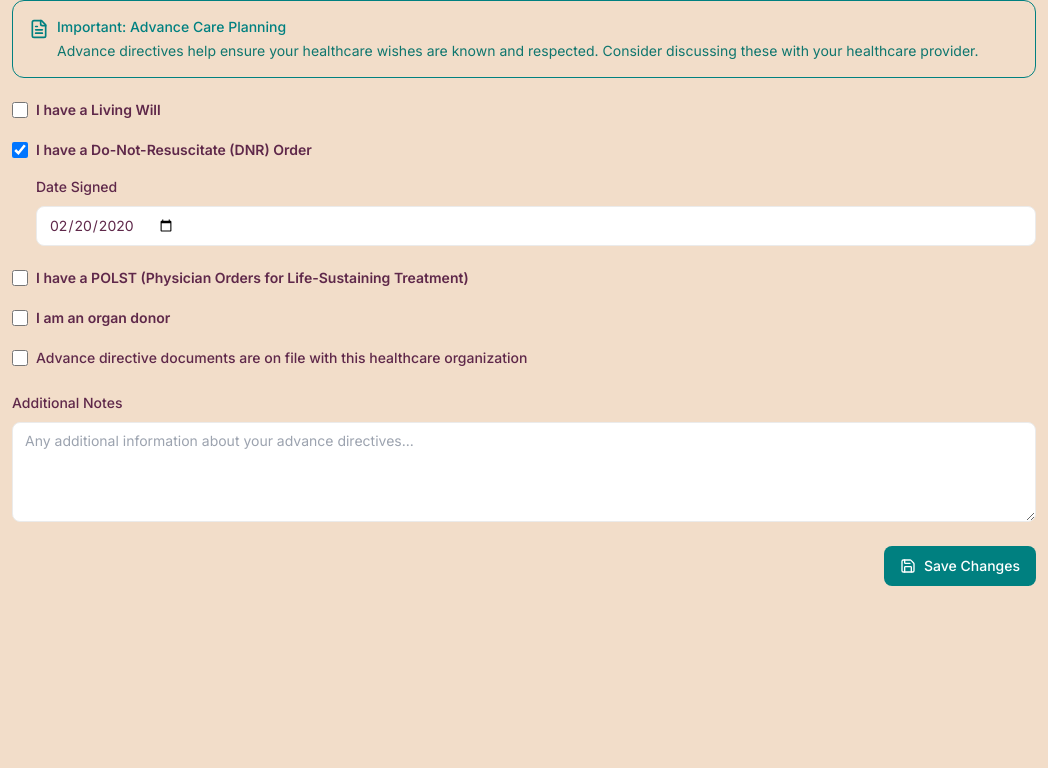
it: AdvanceDirectivesForm › DNR Order › should hide date field when DNR is unchecked
Expected: the date field labelled "Date Signed" is shown, [36,206,1036,246]
What coordinates should you click on to do the following:
click the checkbox labelled "I have a Do-Not-Resuscitate (DNR) Order"
I would click on:
 (20, 150)
Its box is [12,142,28,158].
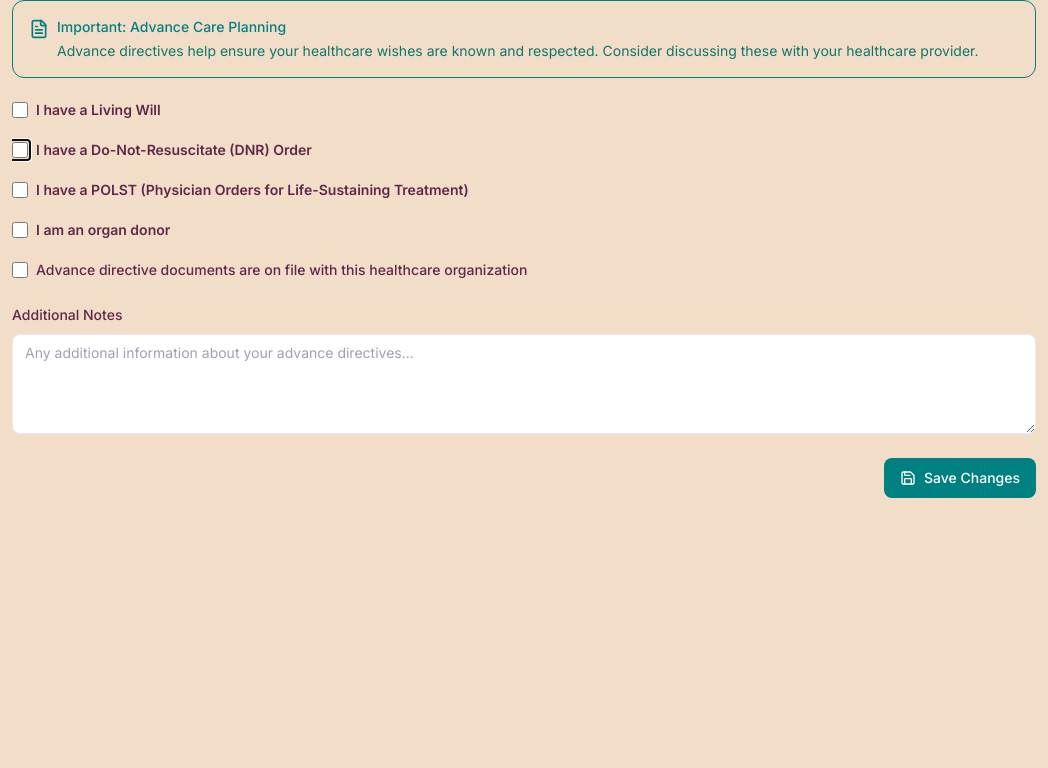
Expected: no labels labelled "Date Signed" are shown
